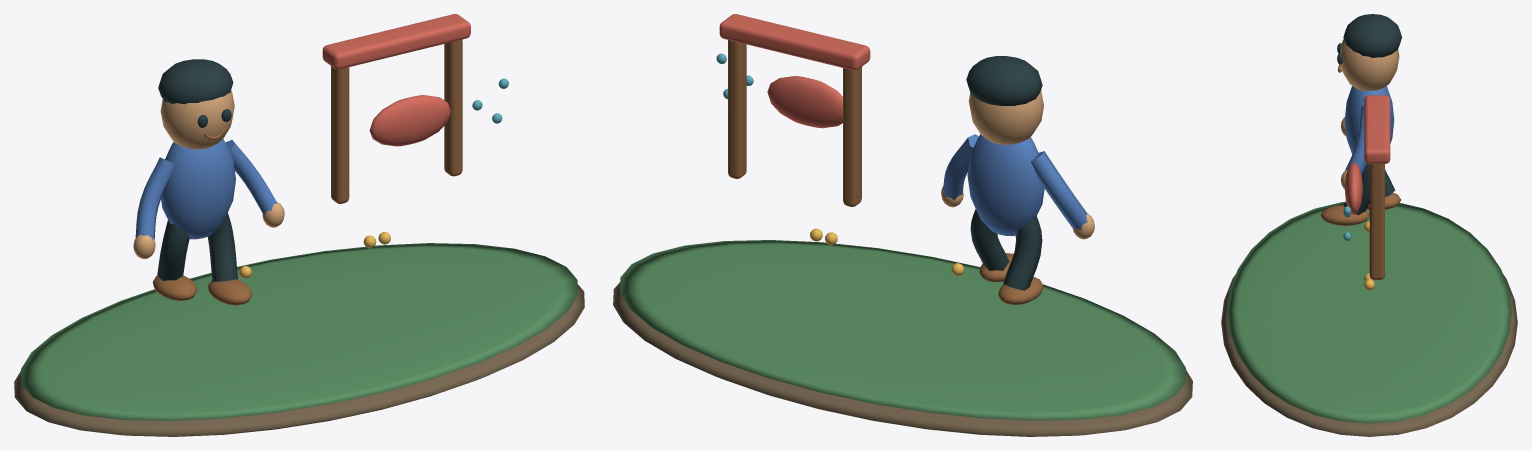
Rendered from complete-second-person-booth-multiplier.glb.
3 views of the same model, side by side, from view 1: azimuth 30°, elevation 25°; view 2: azimuth 150°, elevation 25°; view 3: azimuth 270°, elevation 25° (orthographic). The views are drawn at different scales.
Visible parts, largest first — view 1: complete-second-person-booth-multiplier_surface_01, complete-second-person-booth-multiplier_surface_00, complete-second-person-booth-multiplier_surface_05, complete-second-person-booth-multiplier_surface_06, complete-second-person-booth-multiplier_surface_04, complete-second-person-booth-multiplier_surface_03, complete-second-person-booth-multiplier_surface_02; view 2: complete-second-person-booth-multiplier_surface_01, complete-second-person-booth-multiplier_surface_00, complete-second-person-booth-multiplier_surface_05, complete-second-person-booth-multiplier_surface_06, complete-second-person-booth-multiplier_surface_04, complete-second-person-booth-multiplier_surface_03, complete-second-person-booth-multiplier_surface_02; view 3: complete-second-person-booth-multiplier_surface_01, complete-second-person-booth-multiplier_surface_00, complete-second-person-booth-multiplier_surface_04, complete-second-person-booth-multiplier_surface_03, complete-second-person-booth-multiplier_surface_06, complete-second-person-booth-multiplier_surface_02, complete-second-person-booth-multiplier_surface_05.
Boxes of the visible parts, x1,y1,x2,y2 form: complete-second-person-booth-multiplier_surface_01: (21,243,577,420); complete-second-person-booth-multiplier_surface_00: (14,284,584,436); complete-second-person-booth-multiplier_surface_05: (135,139,276,239); complete-second-person-booth-multiplier_surface_06: (322,14,470,146); complete-second-person-booth-multiplier_surface_04: (152,39,462,305); complete-second-person-booth-multiplier_surface_03: (157,59,237,281); complete-second-person-booth-multiplier_surface_02: (133,90,284,258); complete-second-person-booth-multiplier_surface_01: (620,240,1185,420); complete-second-person-booth-multiplier_surface_00: (613,282,1192,436); complete-second-person-booth-multiplier_surface_05: (943,134,1087,235); complete-second-person-booth-multiplier_surface_06: (719,14,870,128); complete-second-person-booth-multiplier_surface_04: (728,40,1043,304); complete-second-person-booth-multiplier_surface_03: (966,56,1042,290); complete-second-person-booth-multiplier_surface_02: (941,90,1094,239); complete-second-person-booth-multiplier_surface_01: (1227,202,1511,423); complete-second-person-booth-multiplier_surface_00: (1221,274,1517,436); complete-second-person-booth-multiplier_surface_04: (1320,64,1401,279); complete-second-person-booth-multiplier_surface_03: (1337,14,1401,215); complete-second-person-booth-multiplier_surface_06: (1344,95,1390,214); complete-second-person-booth-multiplier_surface_02: (1340,39,1399,188); complete-second-person-booth-multiplier_surface_05: (1344,86,1394,174).
Size of the model in its own units: 4.56 by 2.56 by 2.5.
